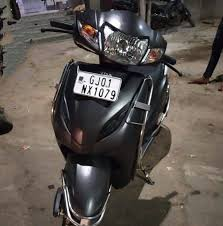doublelinenumberplate: (71, 70, 121, 102)
